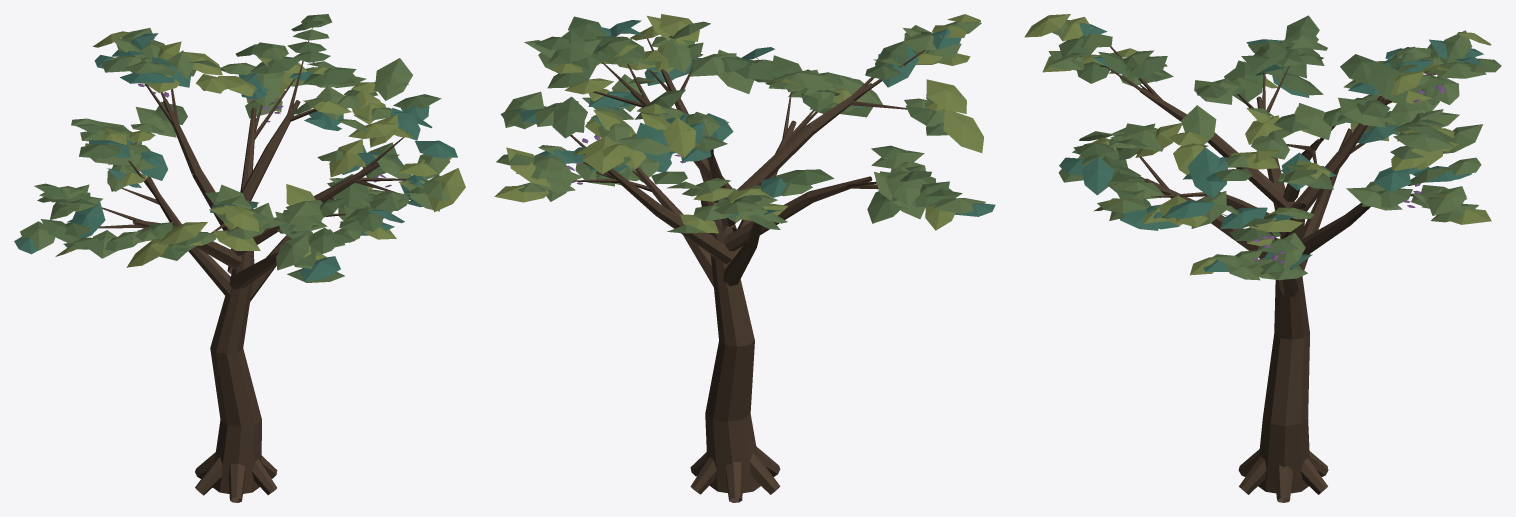
The model's file is border_tree_b.glb.
The picture shows the model from 3 angles, left to right: view 1: azimuth 30°, elevation 25°; view 2: azimuth 150°, elevation 25°; view 3: azimuth 270°, elevation 25°; orthographic projection. The views are drawn at different scales.
Visible parts, largest first — view 1: border_tree_b; view 2: border_tree_b; view 3: border_tree_b.
Boxes of the visible parts, box(x1,y1,x2,y2) form: border_tree_b: box(14, 14, 465, 502); border_tree_b: box(494, 14, 995, 502); border_tree_b: box(1024, 14, 1501, 502).
Size of the model in its own units: 5.31 by 5.16 by 4.98.
